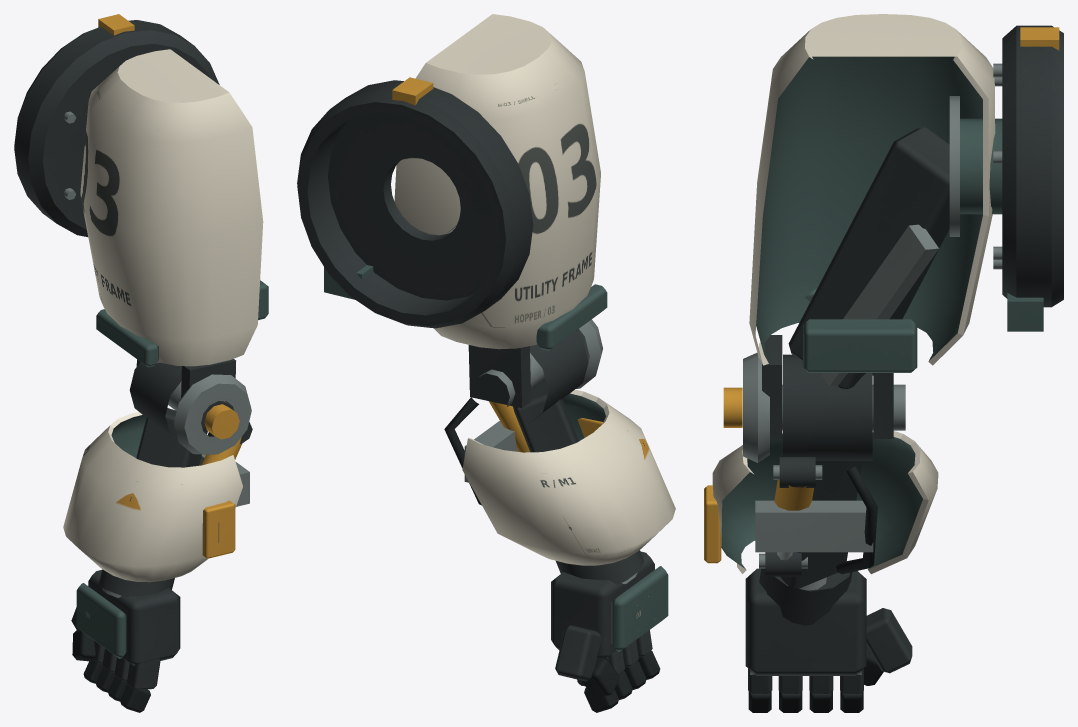
Rendered from HOPPER_03_Arm_R_M1.glb.
The picture shows the model from 3 angles, left to right: view 1: azimuth 30°, elevation 25°; view 2: azimuth 150°, elevation 25°; view 3: azimuth 270°, elevation 25°; orthographic projection. The views are drawn at different scales.
Parts seen in each view (by area): view 1: Arm_R_04_Shoulder_Armor, Arm_R_07_Forearm_Armor, Arm_R_01_Interface_Cup, Arm_R_10_Hand_Frame, Arm_R_05_Elbow_Pivot, Arm_R_06_Forearm_Frame, Arm_R_11_Hand_Armor, Arm_R_03_Upper_Frame, Arm_R_08_Wrist_Pivot; view 2: Arm_R_01_Interface_Cup, Arm_R_04_Shoulder_Armor, Arm_R_07_Forearm_Armor, Arm_R_10_Hand_Frame, Arm_R_06_Forearm_Frame, Arm_R_05_Elbow_Pivot, Arm_R_03_Upper_Frame, Arm_R_11_Hand_Armor, Arm_R_08_Wrist_Pivot; view 3: Arm_R_04_Shoulder_Armor, Arm_R_03_Upper_Frame, Arm_R_01_Interface_Cup, Arm_R_10_Hand_Frame, Arm_R_07_Forearm_Armor, Arm_R_06_Forearm_Frame, Arm_R_05_Elbow_Pivot, Arm_R_08_Wrist_Pivot.
Part boxes in pixels (bbox=[...]): Arm_R_04_Shoulder_Armor: bbox=[80, 49, 263, 367]; Arm_R_07_Forearm_Armor: bbox=[63, 407, 242, 582]; Arm_R_01_Interface_Cup: bbox=[14, 14, 219, 236]; Arm_R_10_Hand_Frame: bbox=[71, 570, 180, 712]; Arm_R_05_Elbow_Pivot: bbox=[129, 362, 251, 454]; Arm_R_06_Forearm_Frame: bbox=[136, 408, 252, 506]; Arm_R_11_Hand_Armor: bbox=[76, 583, 126, 658]; Arm_R_03_Upper_Frame: bbox=[136, 280, 268, 427]; Arm_R_08_Wrist_Pivot: bbox=[98, 569, 174, 597]; Arm_R_01_Interface_Cup: bbox=[297, 77, 533, 328]; Arm_R_04_Shoulder_Armor: bbox=[394, 14, 607, 350]; Arm_R_07_Forearm_Armor: bbox=[462, 389, 675, 565]; Arm_R_10_Hand_Frame: bbox=[551, 551, 660, 712]; Arm_R_06_Forearm_Frame: bbox=[444, 379, 578, 505]; Arm_R_05_Elbow_Pivot: bbox=[478, 319, 602, 423]; Arm_R_03_Upper_Frame: bbox=[468, 330, 576, 408]; Arm_R_11_Hand_Armor: bbox=[611, 566, 668, 651]; Arm_R_08_Wrist_Pivot: bbox=[556, 550, 644, 584]; Arm_R_04_Shoulder_Armor: bbox=[749, 14, 995, 365]; Arm_R_03_Upper_Frame: bbox=[762, 96, 959, 438]; Arm_R_01_Interface_Cup: bbox=[960, 25, 1063, 331]; Arm_R_10_Hand_Frame: bbox=[745, 568, 912, 712]; Arm_R_07_Forearm_Armor: bbox=[704, 430, 938, 574]; Arm_R_06_Forearm_Frame: bbox=[755, 457, 877, 588]; Arm_R_05_Elbow_Pivot: bbox=[723, 353, 905, 462]; Arm_R_08_Wrist_Pivot: bbox=[759, 568, 852, 625].
Bounding box in the file's own units: 0.435 × 1.08 × 0.4785.
3 materials, 3 textured.
